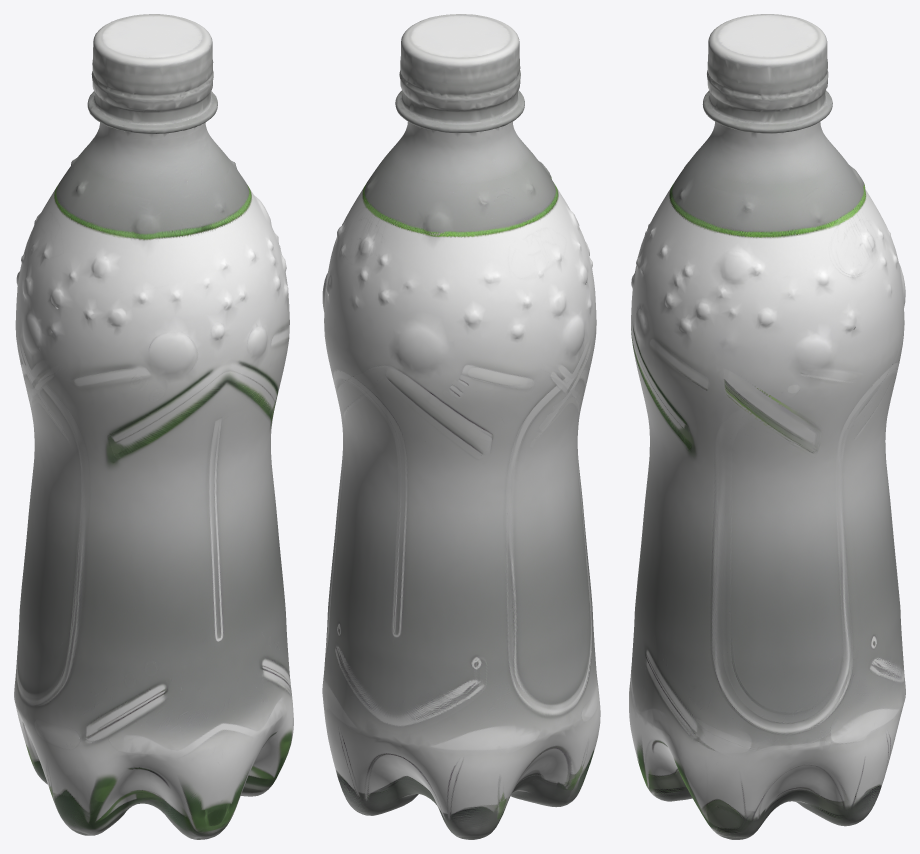
Rendered from cousin_9.glb.
The picture shows the model from 3 angles, left to right: view 1: azimuth 30°, elevation 25°; view 2: azimuth 150°, elevation 25°; view 3: azimuth 270°, elevation 25°; orthographic projection.
Bounding box in the file's own units: 0.6339 × 1.91 × 0.6307.
1 material, 1 textured.
